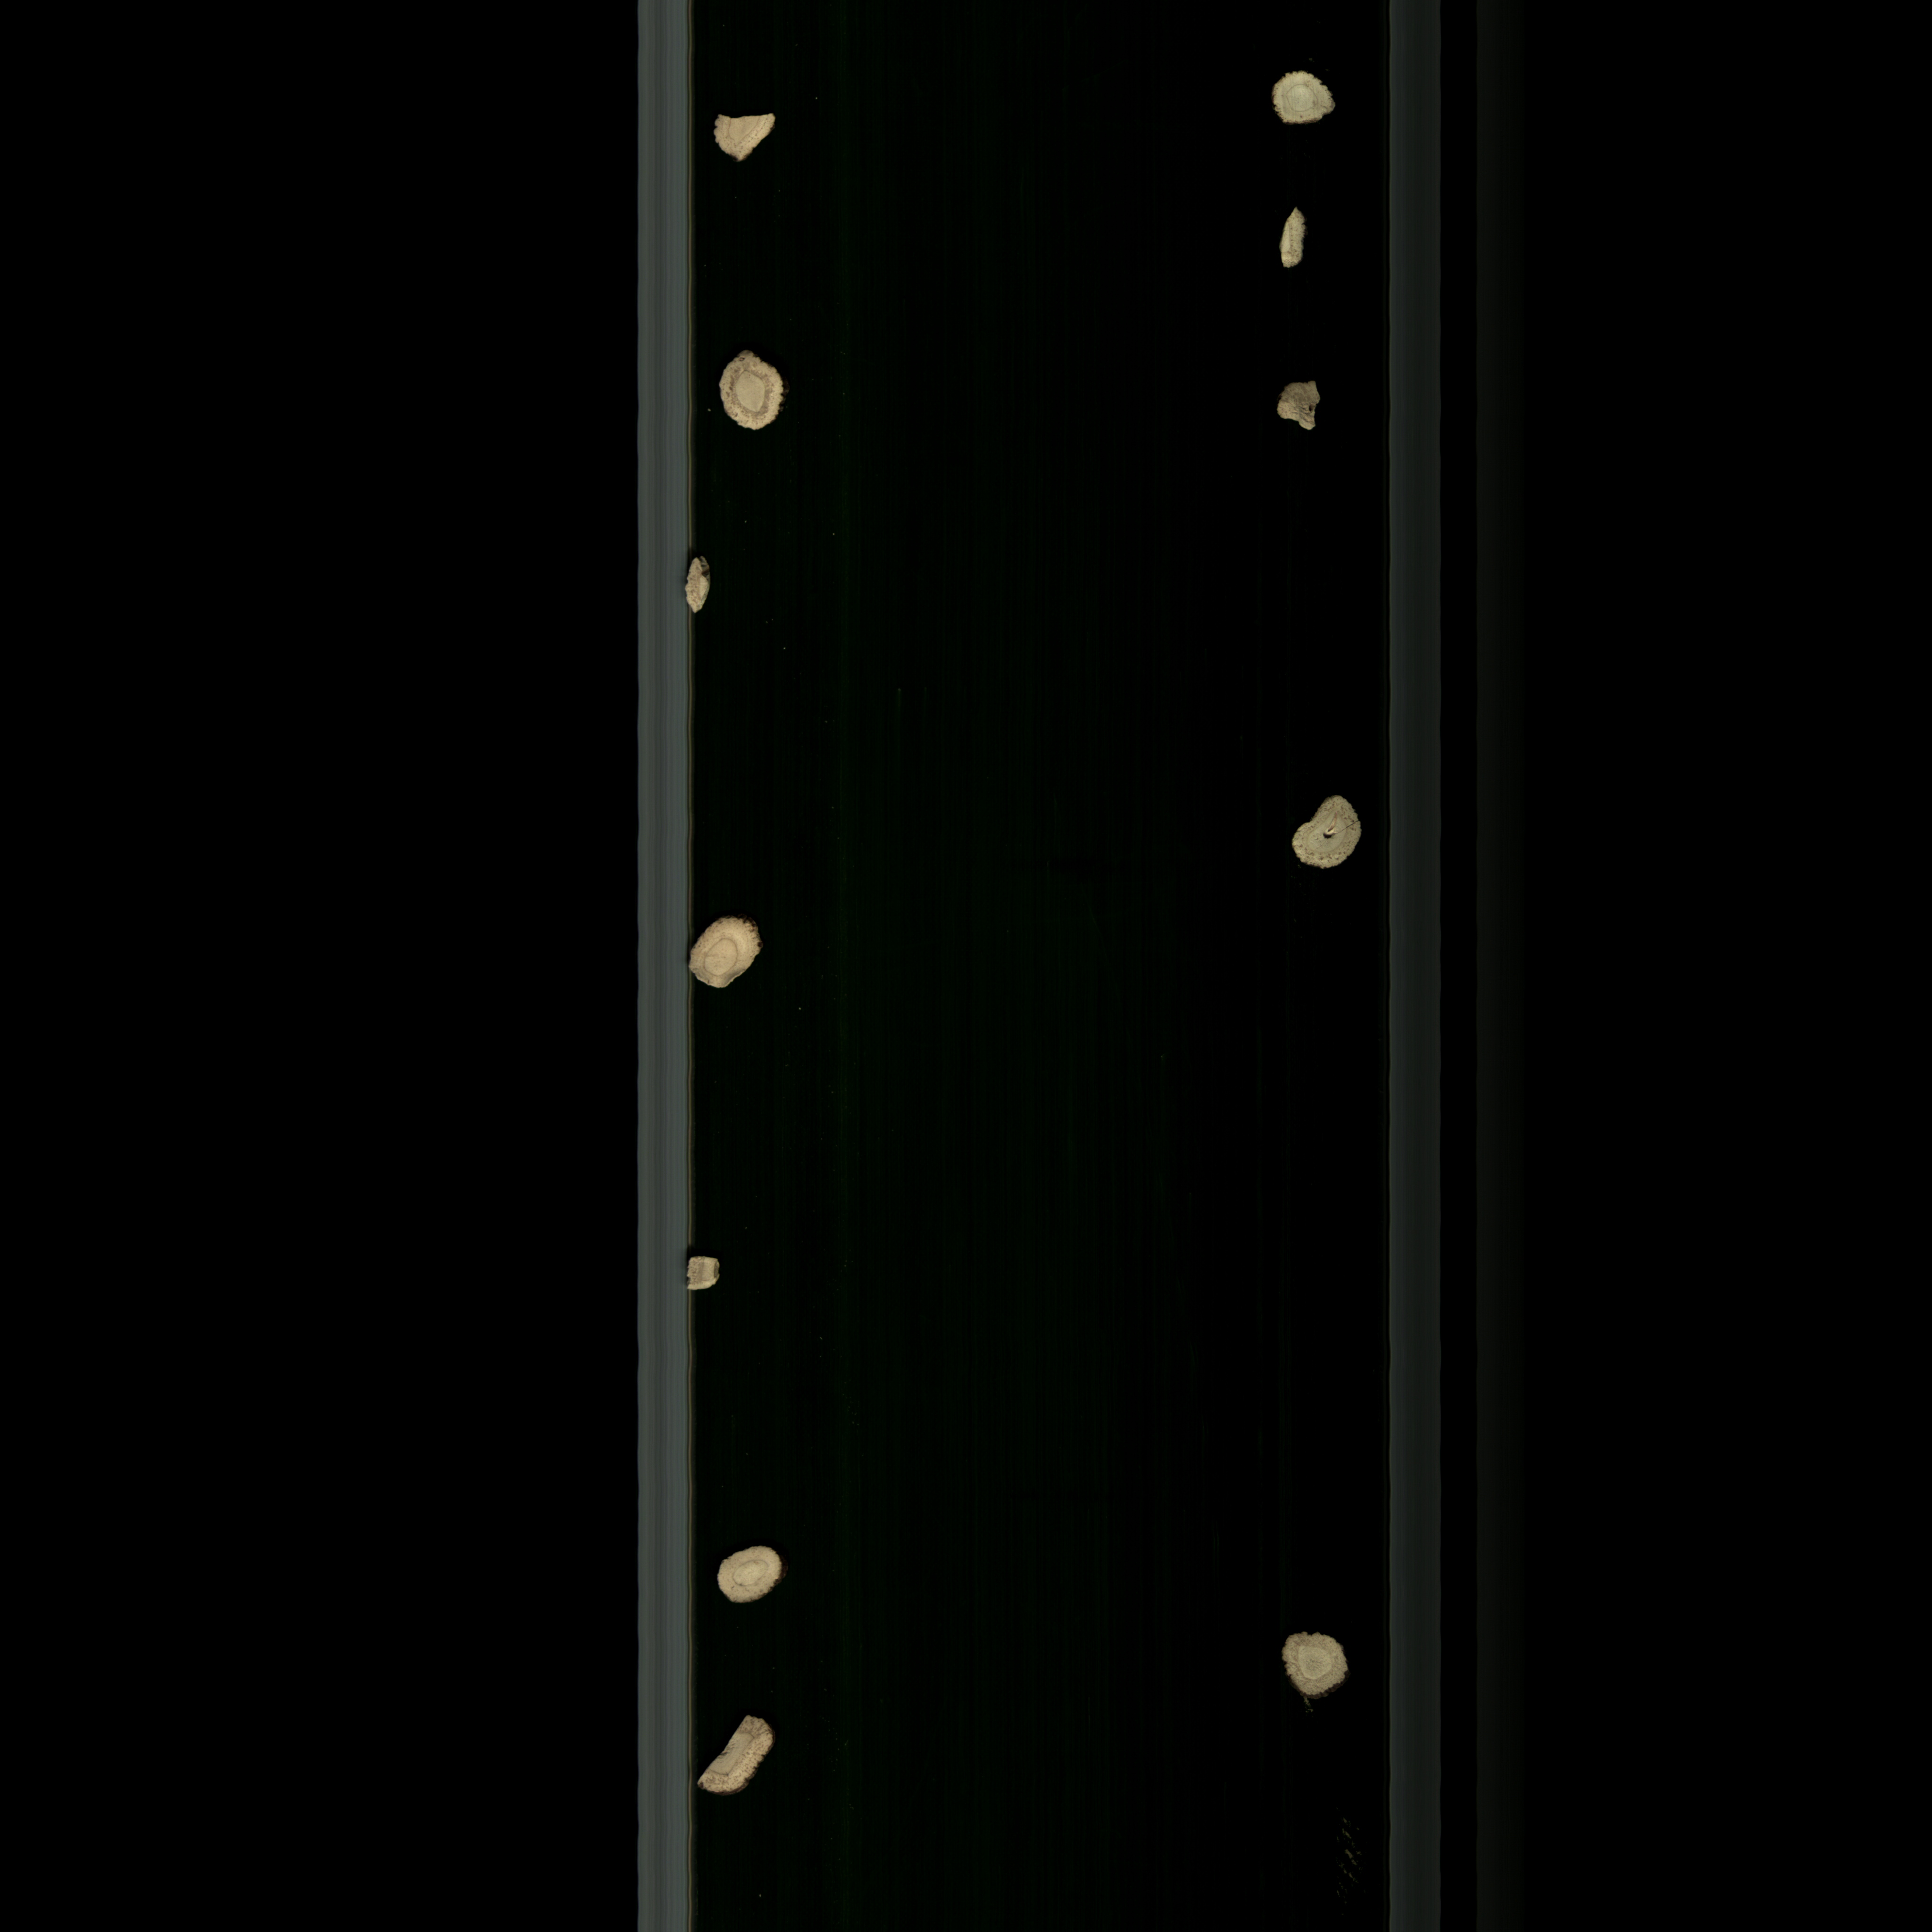debris: (690, 1716, 791, 1801), (686, 913, 777, 1000), (708, 103, 784, 170)
dreg: (1276, 196, 1313, 272), (681, 552, 722, 617), (679, 1251, 736, 1292)
hole: (1290, 787, 1378, 879)
moldy: (711, 350, 809, 439), (1274, 1629, 1353, 1704), (1267, 64, 1343, 129), (1270, 373, 1329, 439)
